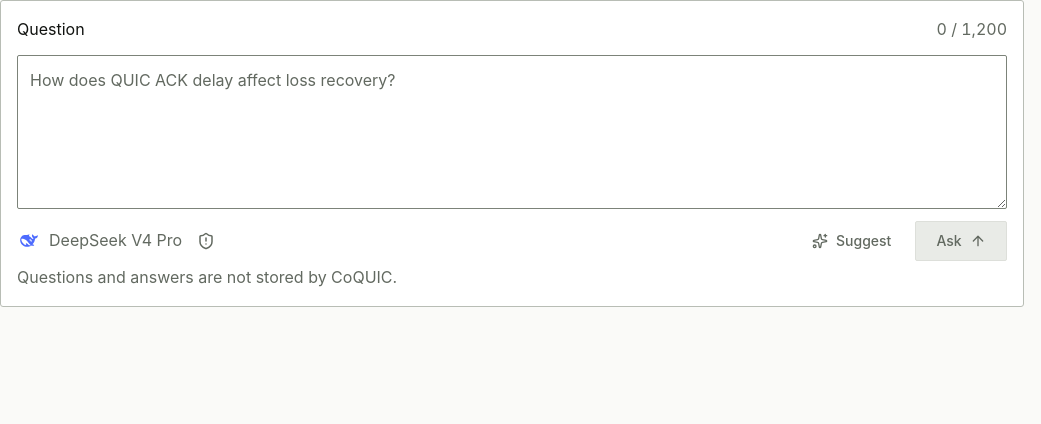
Test: QA stream and form contract › classifies a network rejection as offline
Type "How does QUIC recover loss?" into the text box labelled "Question" at (512, 132), box [17,55,1007,209]
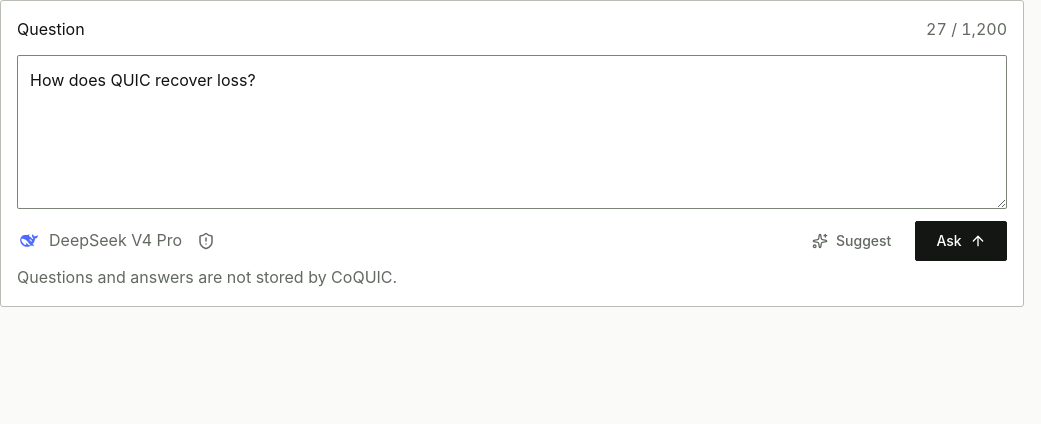
Submit the form "Question"
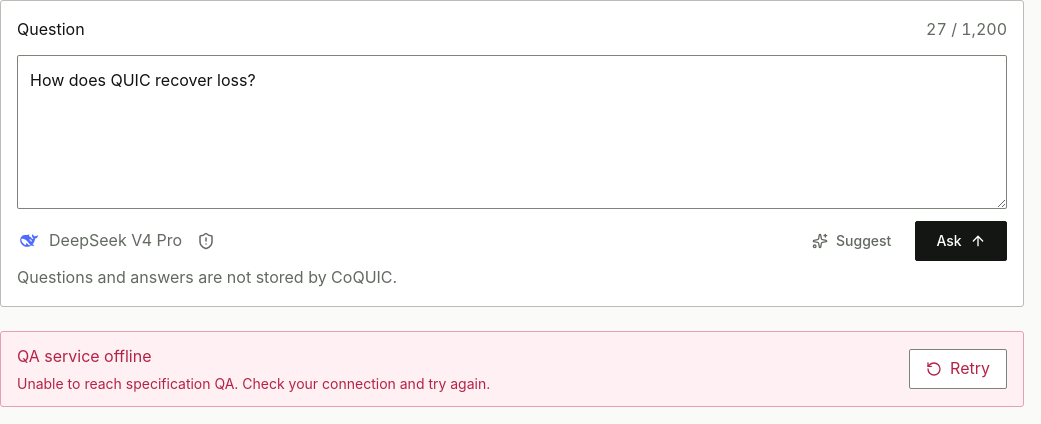
Now the message shows "Unable to reach specification QA. Check your connection and try again.", box [17,375,490,392]
